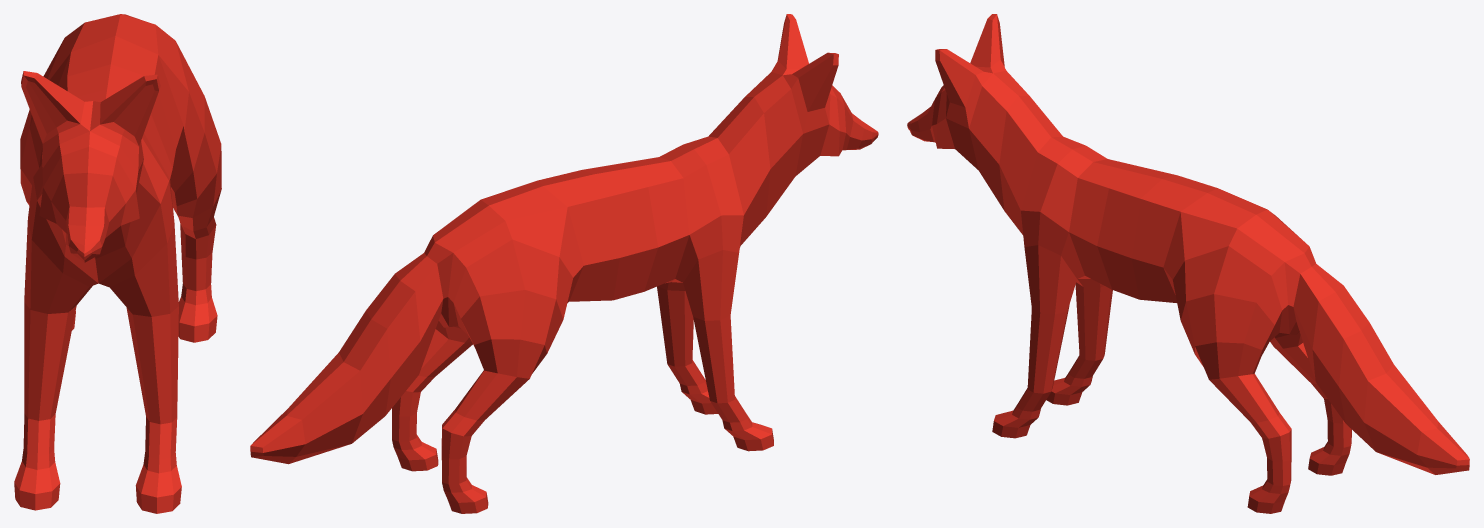
File: fox_final_plane.glb
3 renders of one model, left to right at view 1: azimuth 30°, elevation 25°; view 2: azimuth 150°, elevation 25°; view 3: azimuth 270°, elevation 25°, orthographic. The views are drawn at different scales.
Parts seen in each view (by area): view 1: fox_final_plane; view 2: fox_final_plane; view 3: fox_final_plane.
Part boxes in pixels (x1=…): fox_final_plane: x1=14, y1=14, x2=221, y2=513; fox_final_plane: x1=250, y1=14, x2=878, y2=513; fox_final_plane: x1=907, y1=14, x2=1469, y2=513.
Size of the model in its own units: 1.09 by 1.13 by 1.59.
